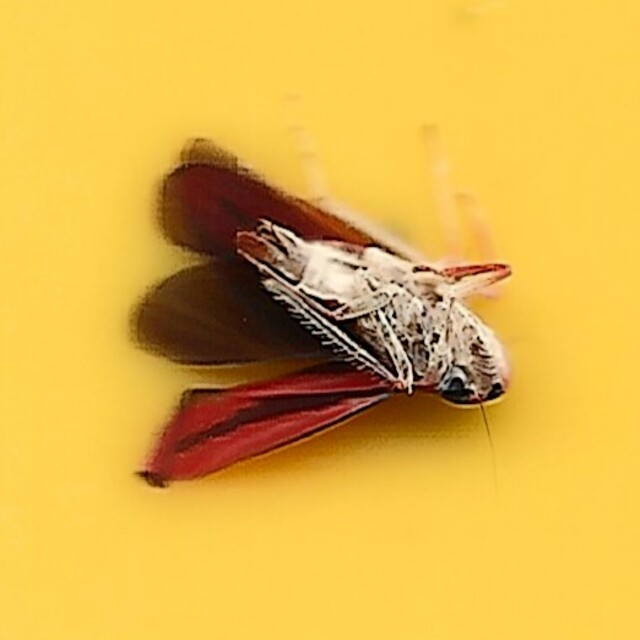Hemiptera: (123, 143, 517, 497)
